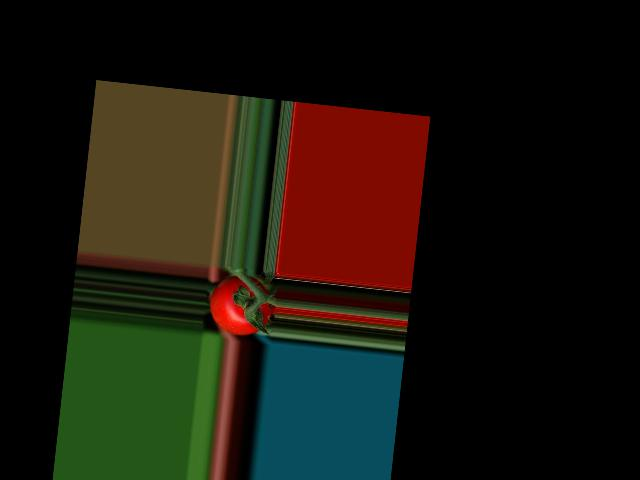tomato: (207, 272, 277, 339)
